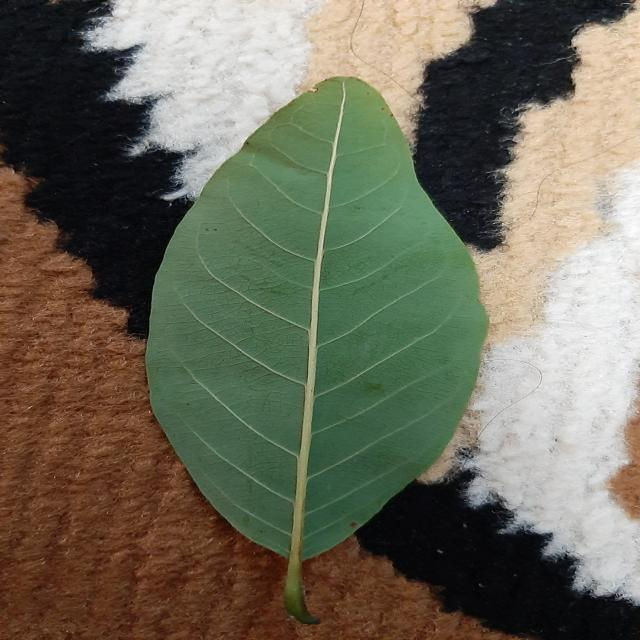seethaphala: (146, 78, 485, 560)
